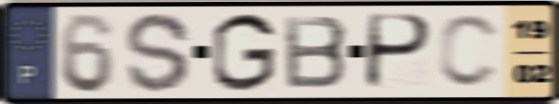6: (56, 10, 118, 96)
B: (281, 13, 352, 91)
C: (435, 12, 504, 91)
G: (209, 10, 279, 94)
P: (362, 12, 435, 93)
S: (123, 10, 195, 96)
